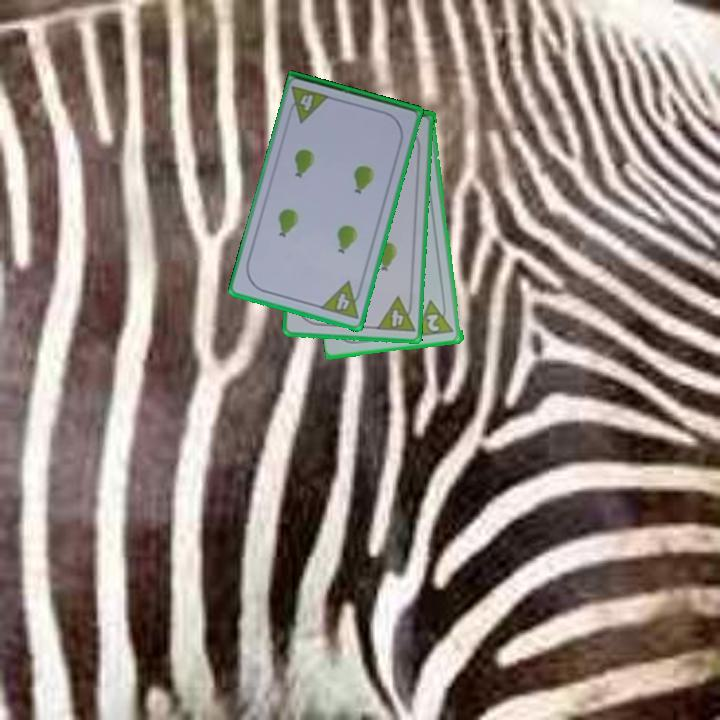2p: (424, 311, 443, 335)
4p: (317, 278, 366, 322), (284, 83, 333, 125), (373, 293, 417, 335)
